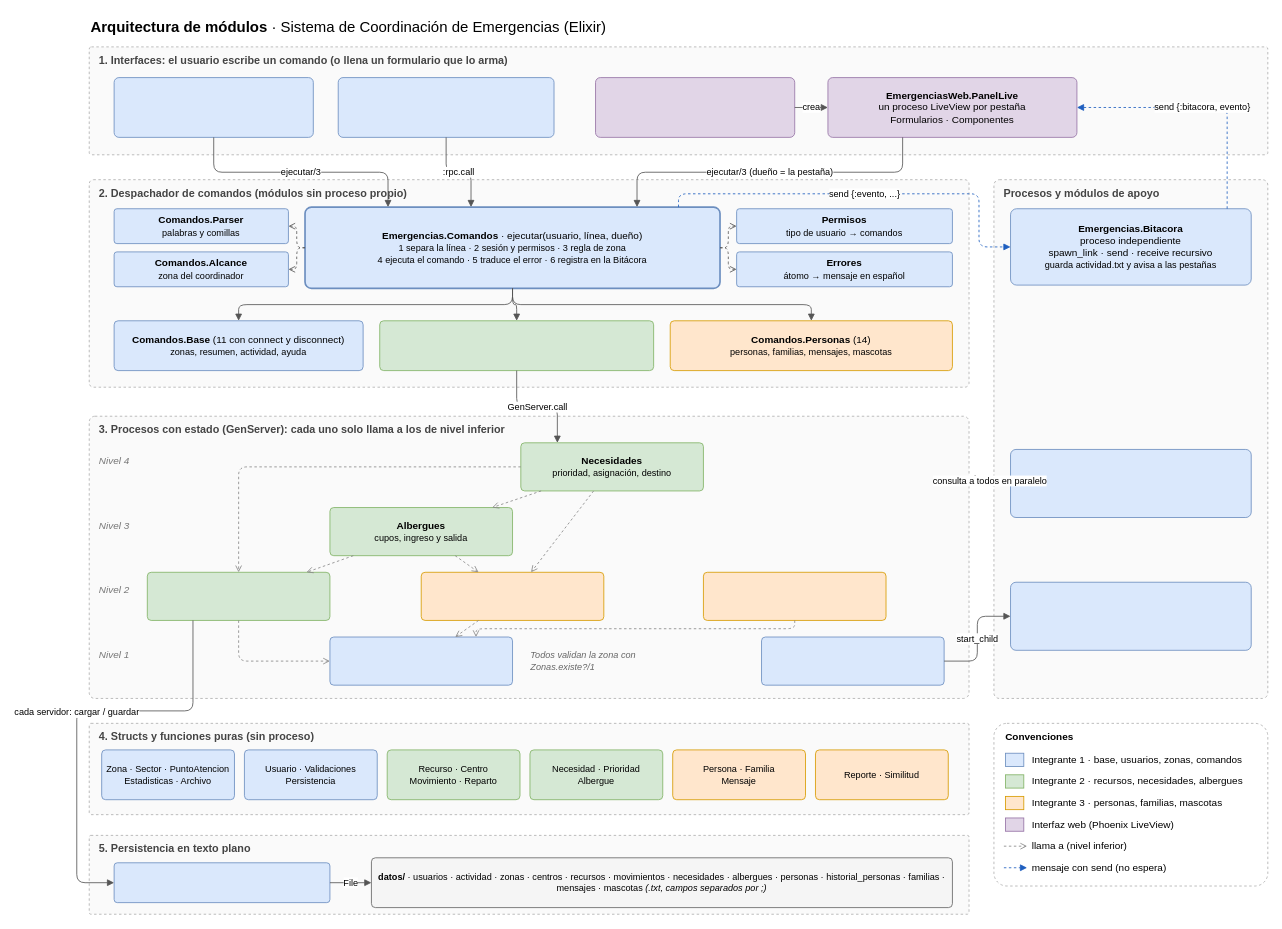
The diagram is 1282 pixels wide and 929 high, and some of its shapes have lost their labels. The shapes that lost their labels are listed below. From the top down, each one's centre as x and y in pixels, then its label:
the point at 213,107: Emergencias.CLI consola de texto mix consola
the point at 445,107: Nodo remoto CLI.iniciar(:servidor@PC) :rpc.call/5
the point at 695,107: EmergenciasWeb.Endpoint Router · Bandit (HTTP) proyecto web/
the point at 516,345: Comandos.Logistica (20) centros, recursos, necesidades, albergues
the point at 1130,483: Emergencias.Reportes summary y zone_status una Task.async por servidor
the point at 238,595: Recursos centros, inventario, reservas
the point at 512,595: Personas personas, familias, mensajes
the point at 794,595: Mascotas reportes y coincidencias
the point at 1130,615: Sesiones (Agent) una por usuario conectado DynamicSupervisor
the point at 421,660: Zonas zona → sectores → puntos
the point at 852,660: Usuarios conexión, permisos, sesiones
the point at 221,882: Emergencias.Persistencia único módulo que toca el disco
